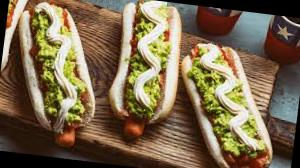Completos: (4, 0, 107, 158), (163, 36, 281, 168), (93, 0, 188, 152)
